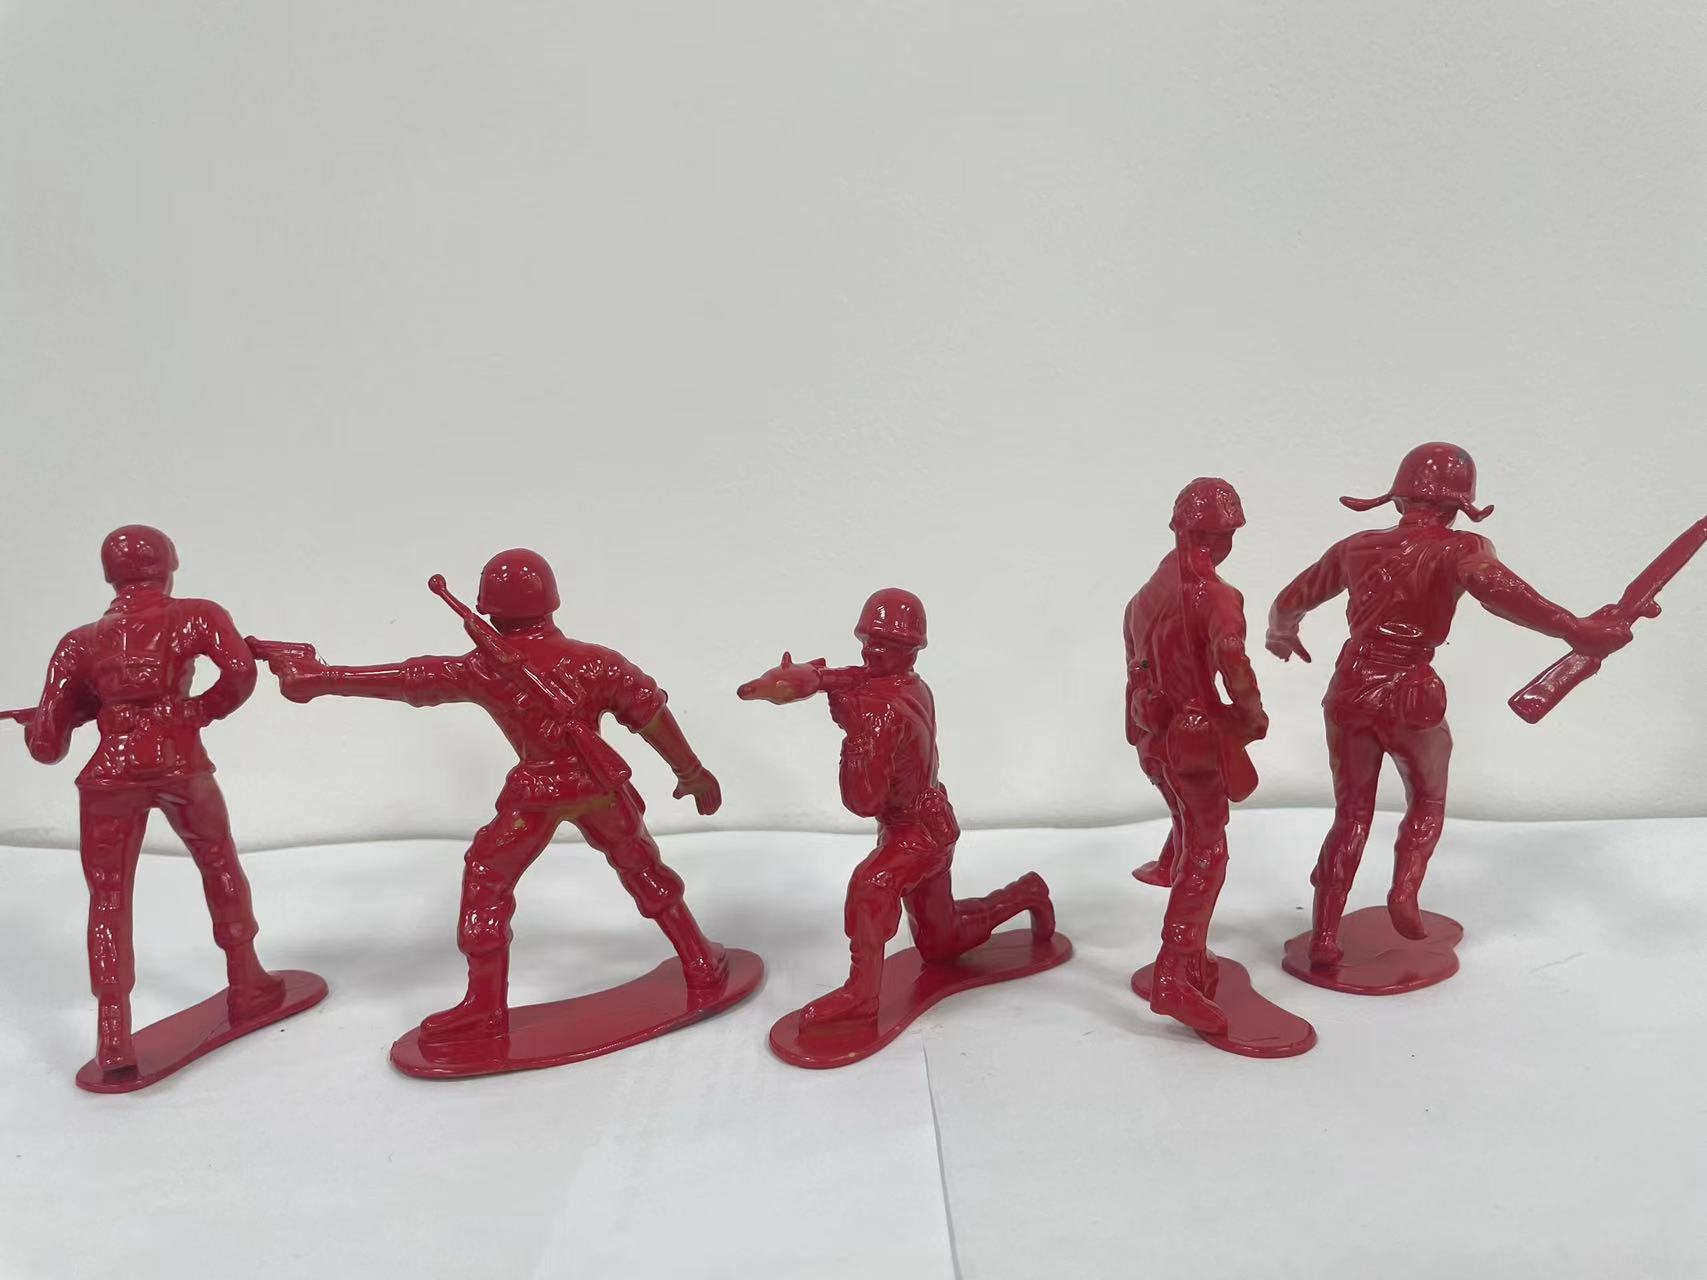red: (284, 502, 751, 1077), (1281, 418, 1707, 1008), (718, 561, 1091, 1092), (1058, 432, 1298, 1105)
